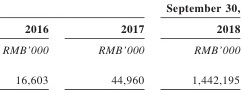column: (167, 1, 240, 90), (3, 1, 49, 90), (99, 1, 145, 90)
row: (1, 4, 242, 14), (1, 76, 242, 85), (1, 25, 241, 34), (1, 46, 241, 55)
